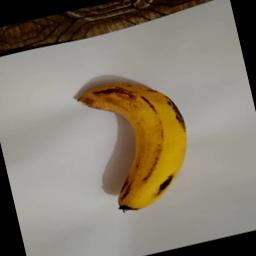Banana Unripe: (71, 66, 204, 221)
